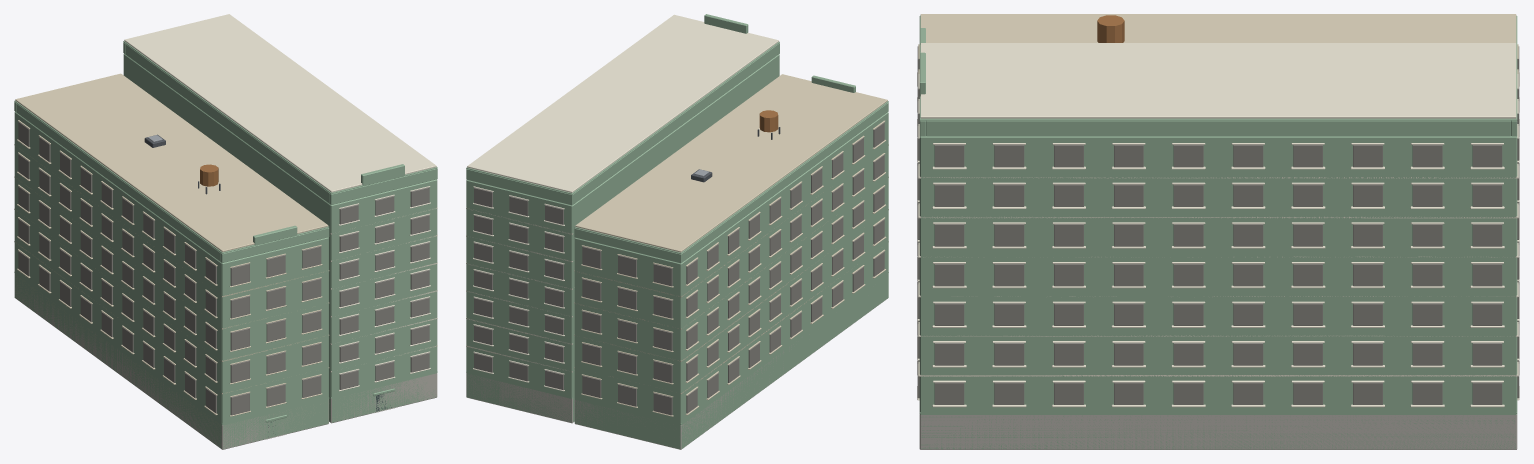
File: VG_Bld_Residential_19.fbx
3 views of the same model, side by side, from view 1: azimuth 30°, elevation 25°; view 2: azimuth 150°, elevation 25°; view 3: azimuth 270°, elevation 25° (orthographic). The views are drawn at different scales.
Parts seen in each view (by area): view 1: VG_Bld_Residential_19_Body; view 2: VG_Bld_Residential_19_Body; view 3: VG_Bld_Residential_19_Body.
Boxes of the visible parts, bbox=[...] form: VG_Bld_Residential_19_Body: bbox=[14, 14, 437, 449]; VG_Bld_Residential_19_Body: bbox=[466, 14, 888, 449]; VG_Bld_Residential_19_Body: bbox=[917, 14, 1519, 449].
Bounding box in the file's own units: 29 × 30.38 × 48.
